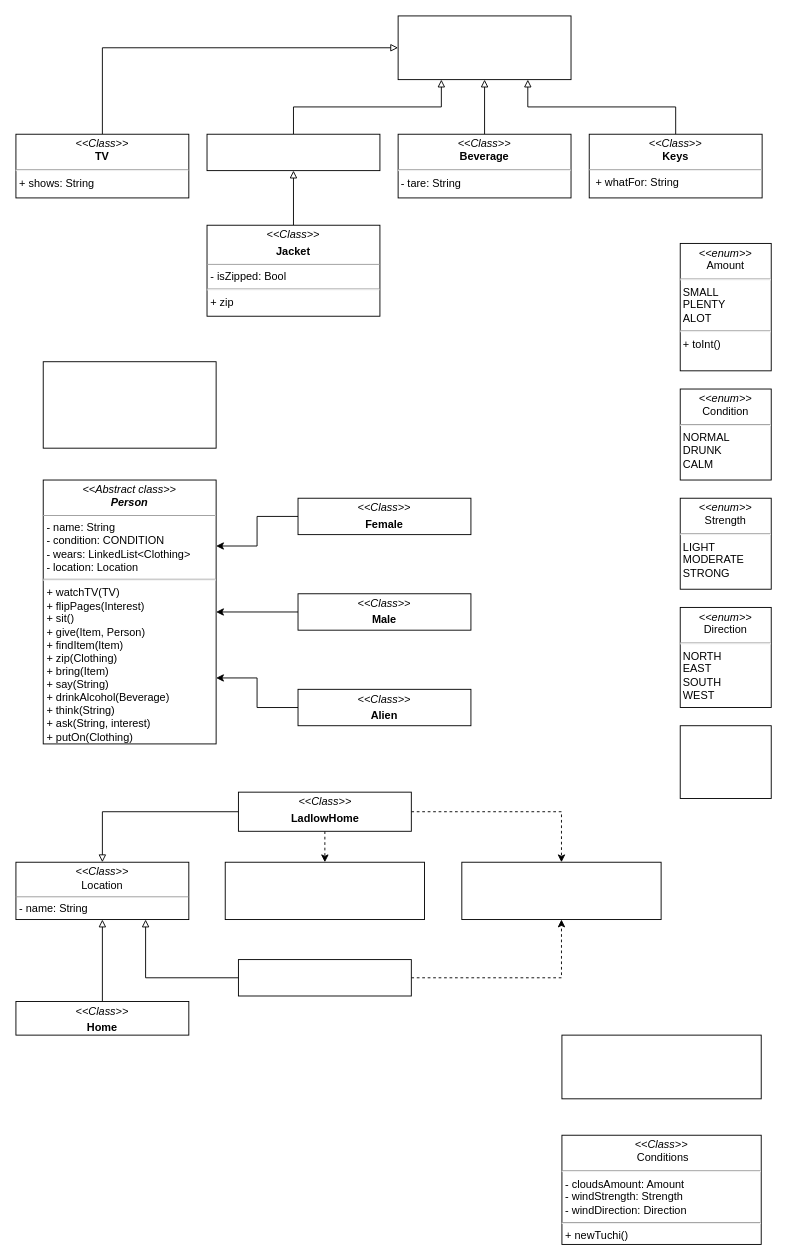
This 787x1260 diagram has some shape labels left out. Each missing label, with the centre of its shape:
"<< Class>> Item + name: String" goes at (484,47).
"<<Abstract Class>> Couple - name(String) + bringTogether(item)" goes at (129,404).
"<<Class >> Clothing" goes at (293,152).
"<<Class >> Party" goes at (324,977).
"<<Class>> LocManager - storyLocation: Location" goes at (661,1066).
"<<enum>> Interest DEDICATED CARELESS" goes at (725,762).
"<<Interface>> hasAlcohol - alcholAmount: Amount" goes at (561,890).
"<<Interface>> hasOccasion - occasion: String" goes at (324,890).
